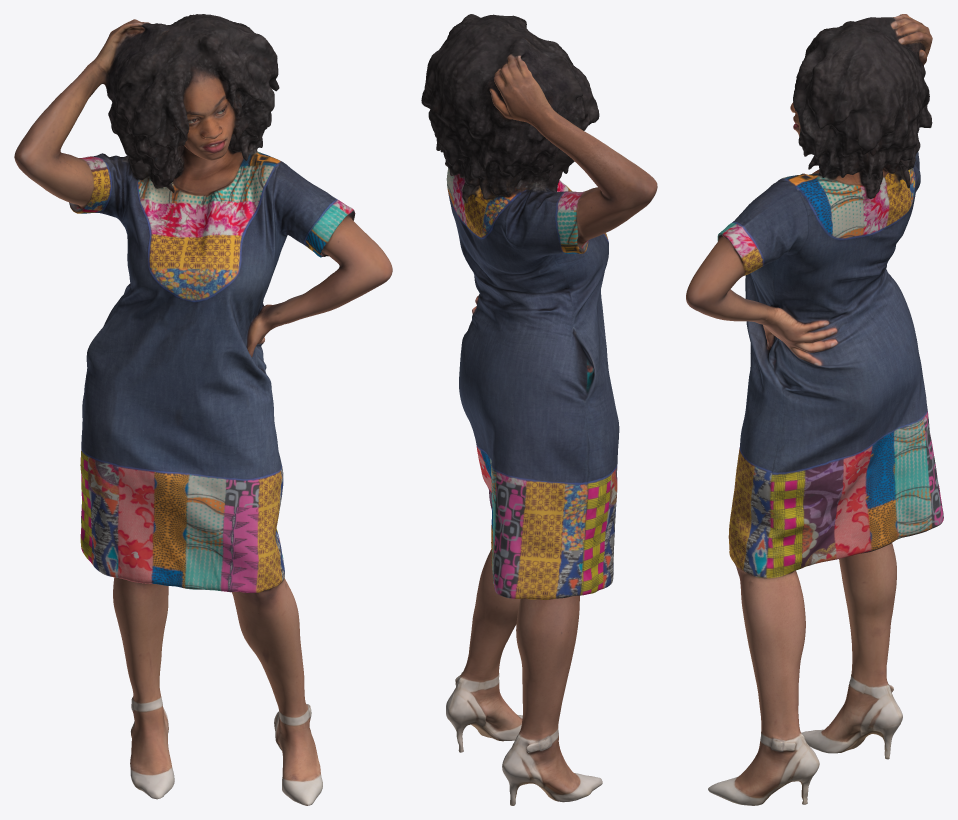
File: free_download_attractive_african_woman_236.glb
3 renders of one model, left to right at view 1: azimuth 30°, elevation 25°; view 2: azimuth 150°, elevation 25°; view 3: azimuth 270°, elevation 25°, orthographic. The views are drawn at different scales.
Visible parts, largest first — view 1: Object_2; view 2: Object_2; view 3: Object_2.
Boxes of the visible parts, left/top/right/bottom form: Object_2: left=14, top=14, right=392, bottom=805; Object_2: left=421, top=14, right=657, bottom=805; Object_2: left=686, top=14, right=943, bottom=805.
Size of the model in its own units: 69.15 by 175 by 54.8.
1 material, 1 textured.
